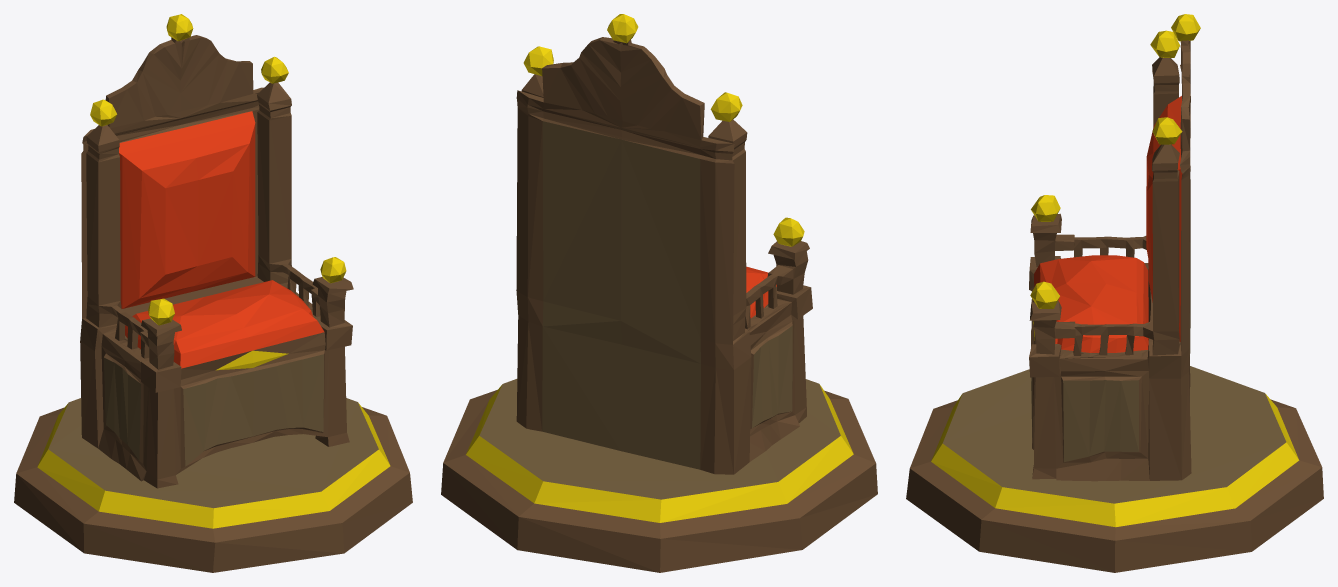
File: RG-Dungeon_Throne-chair.fbx
3 views of the same model, side by side, from view 1: azimuth 30°, elevation 25°; view 2: azimuth 150°, elevation 25°; view 3: azimuth 270°, elevation 25° (orthographic). The views are drawn at different scales.
Parts seen in each view (by area): view 1: RG-Dungeon_Throne-chair; view 2: RG-Dungeon_Throne-chair; view 3: RG-Dungeon_Throne-chair.
Part boxes in pixels (left/top/right/bottom): RG-Dungeon_Throne-chair: left=14, top=14, right=412, bottom=572; RG-Dungeon_Throne-chair: left=441, top=14, right=877, bottom=572; RG-Dungeon_Throne-chair: left=906, top=14, right=1323, bottom=572.
Size of the model in its own units: 13.69 by 17.21 by 13.9.
